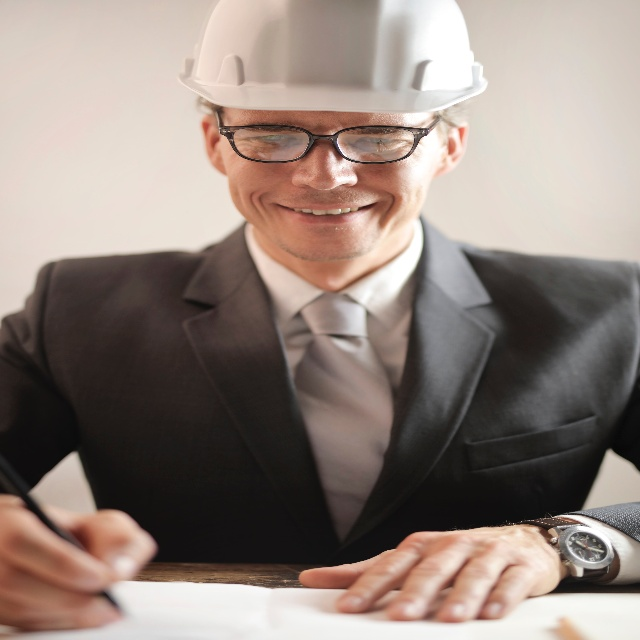Gafas: (215, 112, 439, 165)
Sin_guantes: (297, 520, 560, 623), (0, 501, 158, 636)
